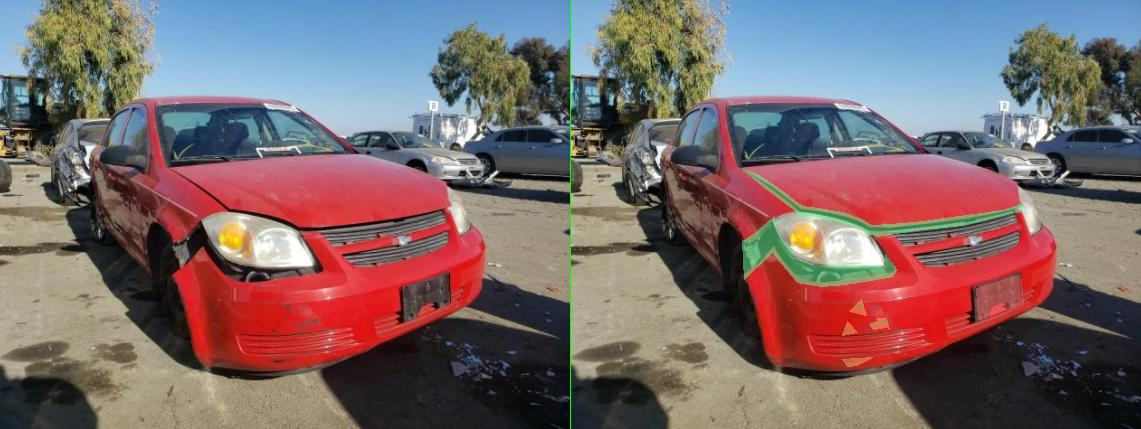Broken part: (342, 169, 905, 236), (342, 216, 651, 286)
Missing part: (811, 274, 905, 319)
Paint chip: (556, 299, 591, 315), (542, 357, 603, 366), (542, 321, 573, 335), (597, 320, 629, 329), (611, 318, 637, 329)
